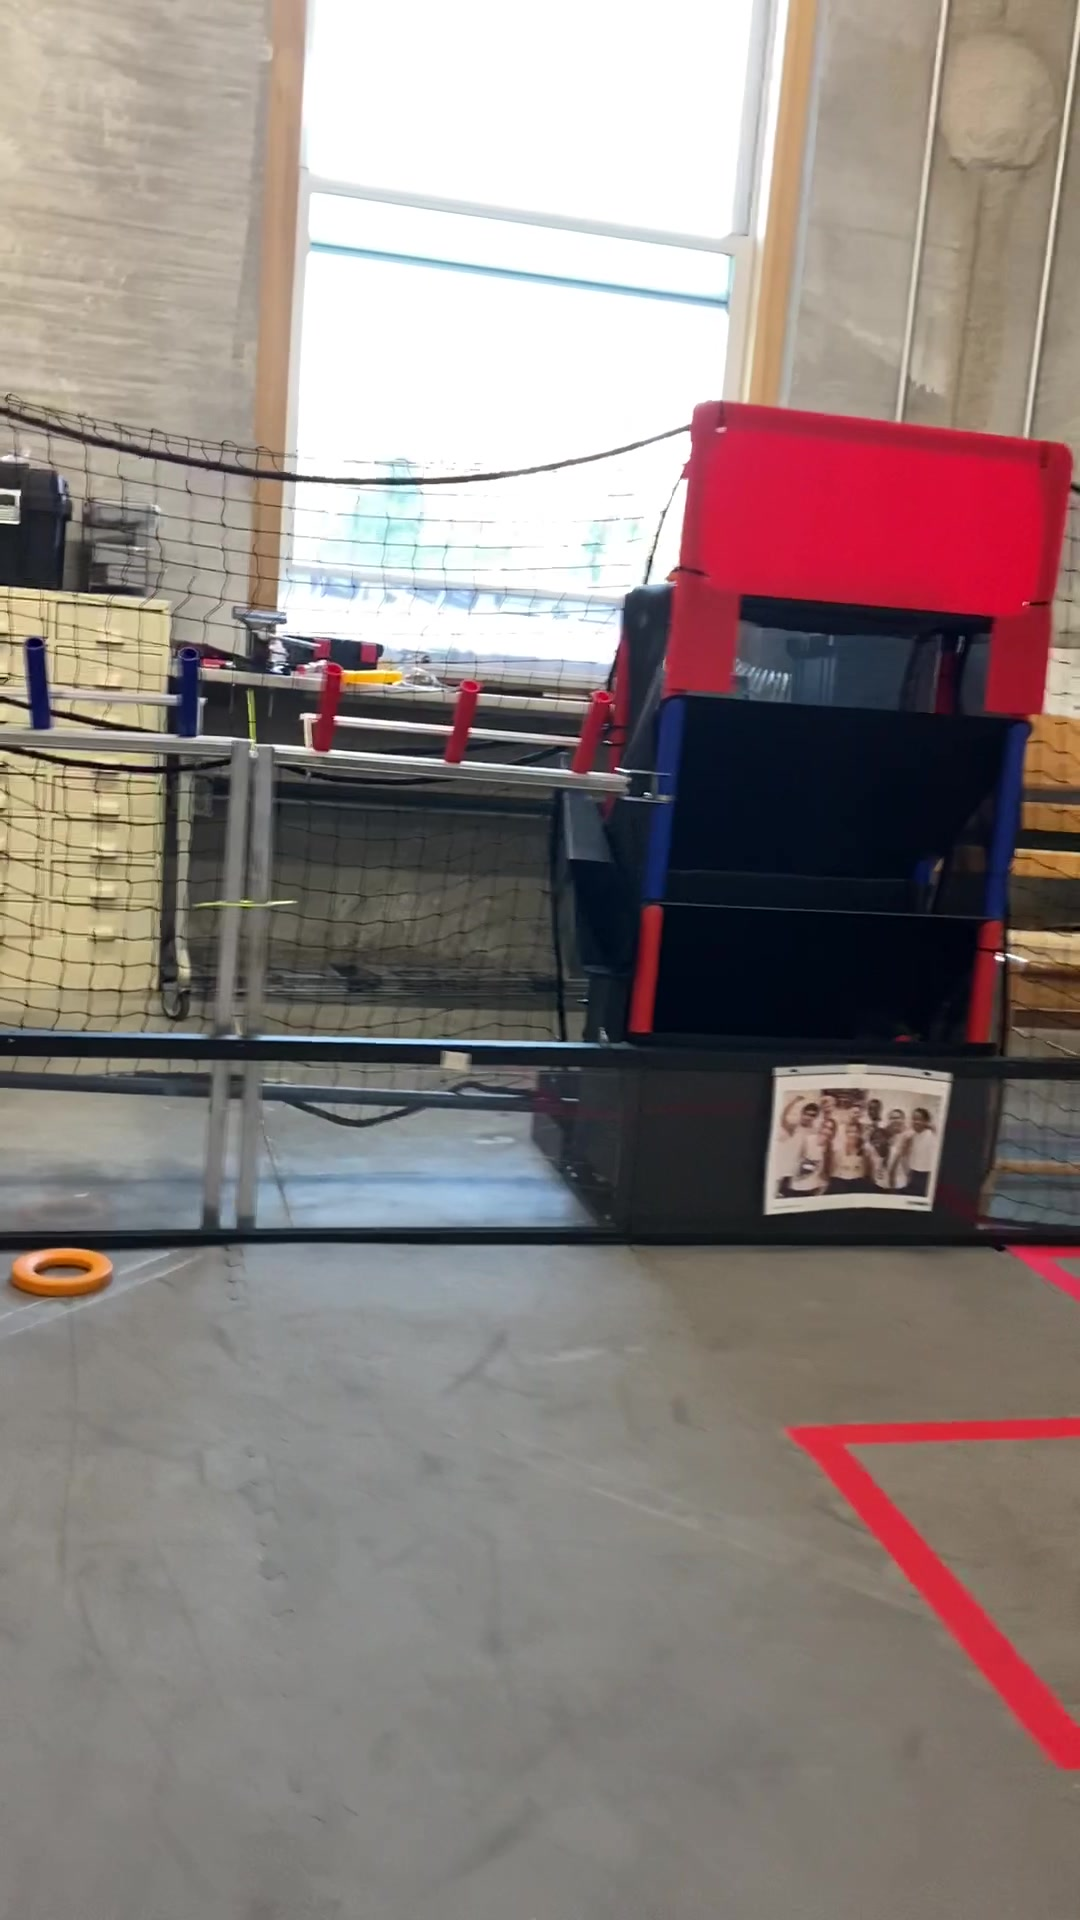high_goal: (741, 600, 997, 724)
